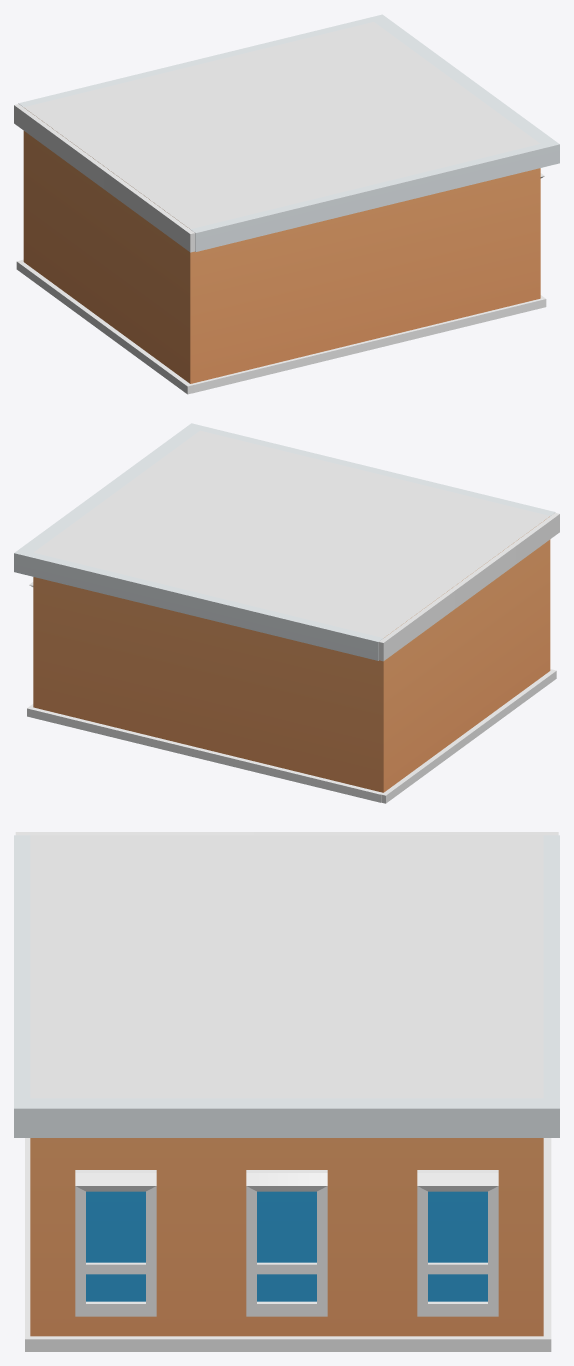
Rendered from floor.fbx.
The picture shows the model from 3 angles, top to bottom: view 1: azimuth 30°, elevation 25°; view 2: azimuth 150°, elevation 25°; view 3: azimuth 270°, elevation 25°; orthographic projection. The views are drawn at different scales.
Parts seen in each view (by area): view 1: Floor; view 2: Floor; view 3: Floor.
Part boxes in pixels (box(x1,y1,x2,y2)): Floor: box(14, 14, 559, 394); Floor: box(14, 423, 559, 803); Floor: box(14, 832, 559, 1351).
Bounding box in the file's own units: 518 × 216 × 426.
1 material, 1 textured.
